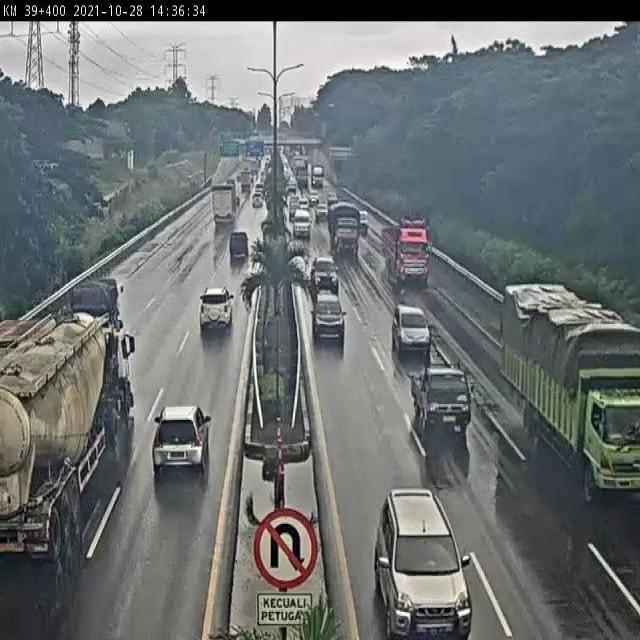truck-m-: (501, 290, 639, 502), (380, 219, 429, 280), (328, 197, 363, 255)
truck-xl-: (0, 312, 134, 552)
